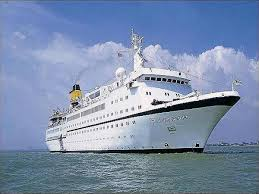tau_dansu: (37, 52, 234, 153)
